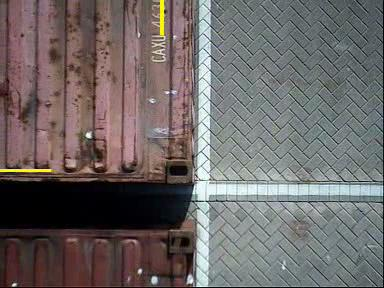groundmarker_2: (201, 161, 228, 223), (200, 17, 227, 78)
